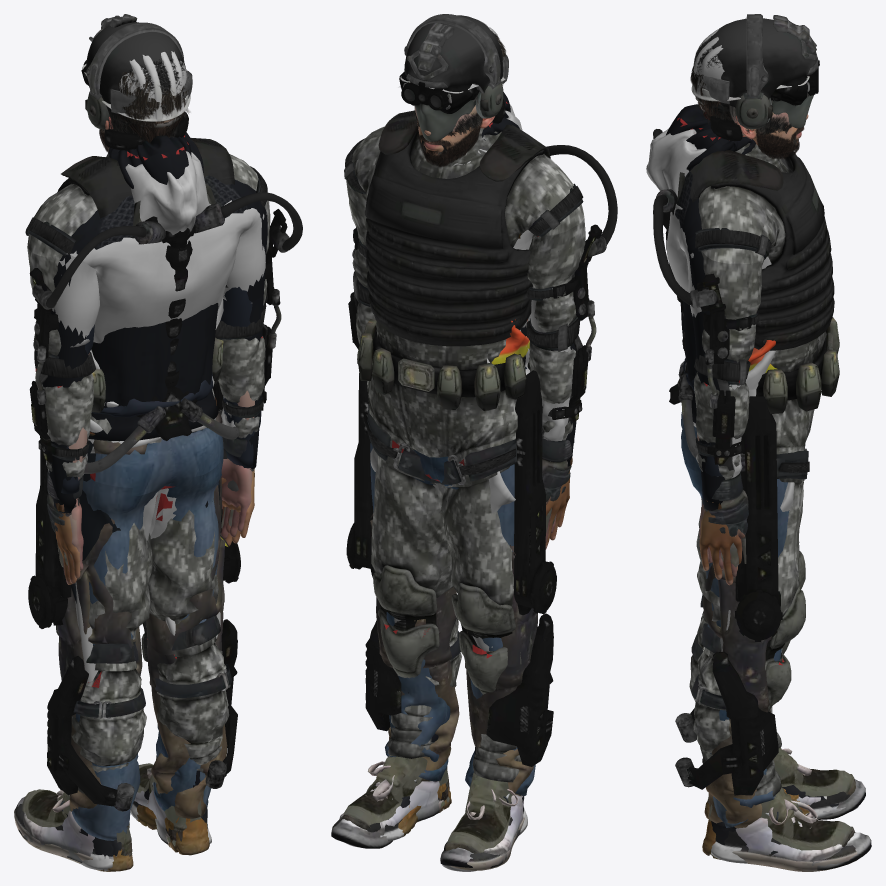
The model's file is characters.glb.
3 renders of one model, left to right at view 1: azimuth 30°, elevation 25°; view 2: azimuth 150°, elevation 25°; view 3: azimuth 270°, elevation 25°, orthographic.
Visible parts, largest first — view 1: Ch15_shinR, Ch15_torso, Ch28_torso, Ch01_torso, Ch15_shinL, Ch15_thighR, Ch15_head, Ch15_thighL, Ch01_pelvis, Ch15_farmR, Ch17_shinL, Ch15_farmL (+31 smaller); view 2: Ch15_torso, Ch15_thighR, Ch15_pelvis, Ch15_thighL, Ch15_shinR, Ch15_head, Ch15_shinL, Ch15_uarmR, Ch01_shinL, Ch15_farmR, Ch17_shinL, Ch17_shinR (+14 smaller); view 3: Ch15_torso, Ch15_thighL, Ch15_shinL, Ch15_head, Ch15_uarmL, Ch15_pelvis, Ch15_farmL, Ch01_shinL, Ch15_shinR, Ch28_torso, Ch17_shinL, Ch17_thighL (+13 smaller).
Part boxes in pixels (x1,y1,x2,y2): Ch15_shinR: [22, 656, 146, 856]; Ch15_torso: [25, 137, 282, 383]; Ch28_torso: [66, 132, 263, 399]; Ch01_torso: [70, 200, 259, 369]; Ch15_shinL: [137, 619, 237, 846]; Ch15_thighR: [28, 450, 153, 687]; Ch15_head: [81, 14, 192, 150]; Ch15_thighL: [142, 381, 240, 650]; Ch01_pelvis: [88, 376, 223, 496]; Ch15_farmR: [29, 368, 93, 567]; Ch17_shinL: [136, 640, 227, 855]; Ch15_farmL: [218, 321, 279, 528]; Ch15_torso: [344, 110, 597, 347]; Ch15_thighR: [440, 370, 556, 660]; Ch15_pelvis: [357, 319, 530, 465]; Ch15_thighL: [346, 373, 453, 639]; Ch15_shinR: [445, 613, 553, 853]; Ch15_head: [399, 14, 508, 141]; Ch15_shinL: [341, 615, 461, 829]; Ch15_uarmR: [526, 161, 617, 350]; Ch01_shinL: [331, 659, 450, 848]; Ch15_farmR: [529, 335, 594, 532]; Ch17_shinL: [376, 613, 459, 837]; Ch17_shinR: [465, 658, 533, 795]; Ch15_torso: [653, 129, 834, 350]; Ch15_thighL: [689, 396, 809, 669]; Ch15_shinL: [675, 646, 855, 864]; Ch15_head: [701, 14, 819, 141]; Ch15_uarmL: [653, 223, 764, 386]; Ch15_pelvis: [669, 317, 839, 454]; Ch15_farmL: [694, 372, 749, 567]; Ch01_shinL: [710, 710, 871, 870]; Ch15_shinR: [675, 616, 855, 803]; Ch28_torso: [666, 116, 755, 375]; Ch17_shinL: [702, 670, 769, 859]; Ch17_thighL: [702, 563, 771, 673].
Bounding box in the file's own units: 0.6011 × 1.89 × 0.4724.
14 materials, 13 textured.
